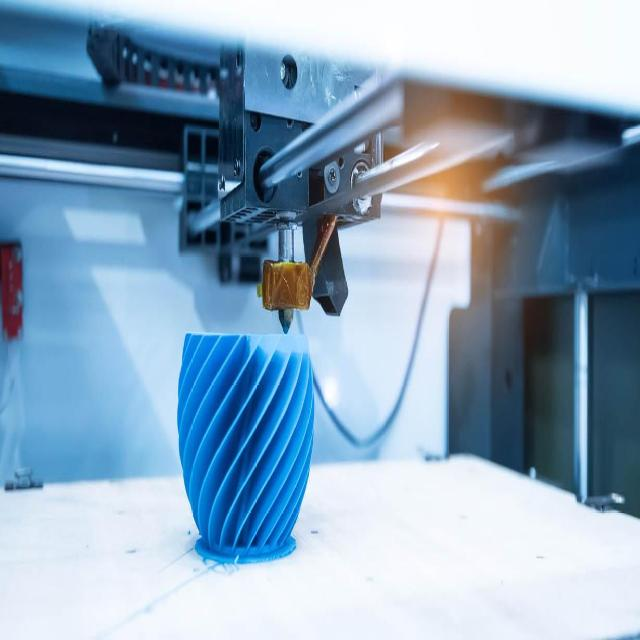Without deffect: (174, 316, 316, 574)
